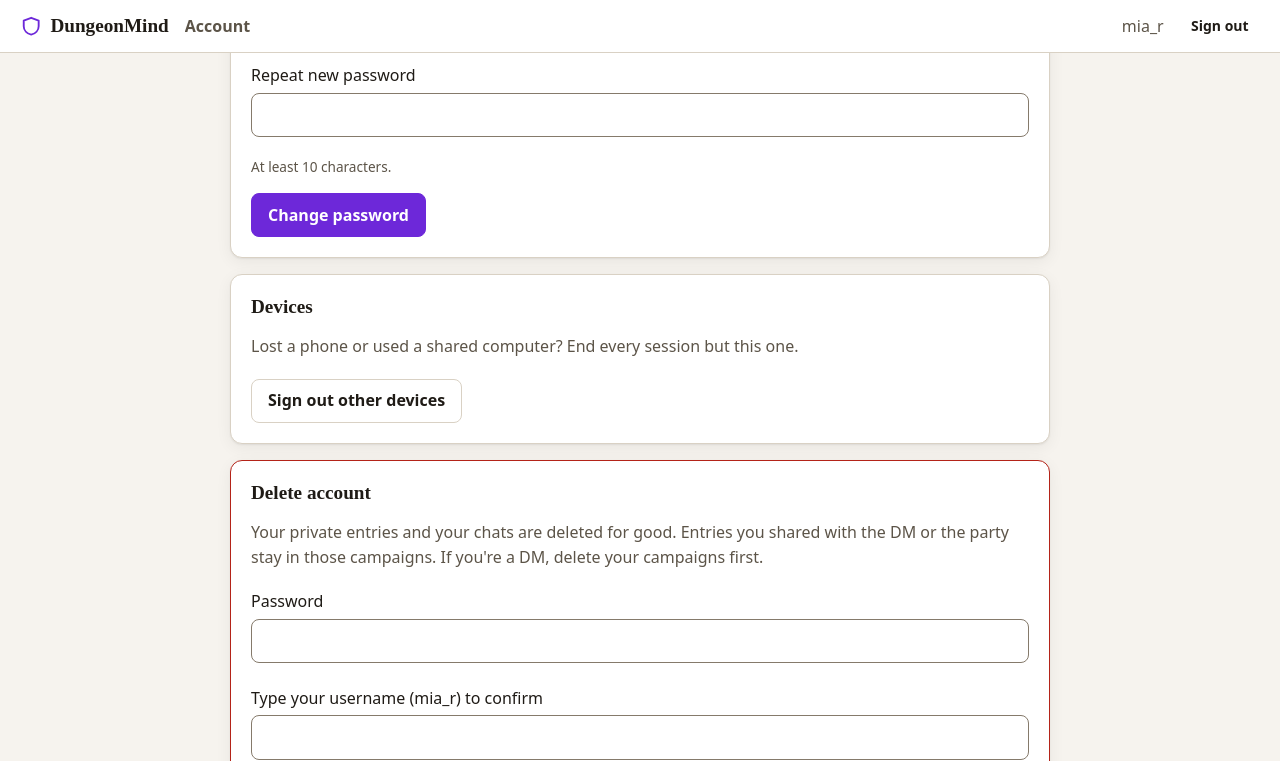
account page › AU3: signing out other devices says how many
(page scrolled)
Click the button "Sign out other devices": (357, 401) x1=251 y1=379 x2=462 y2=423
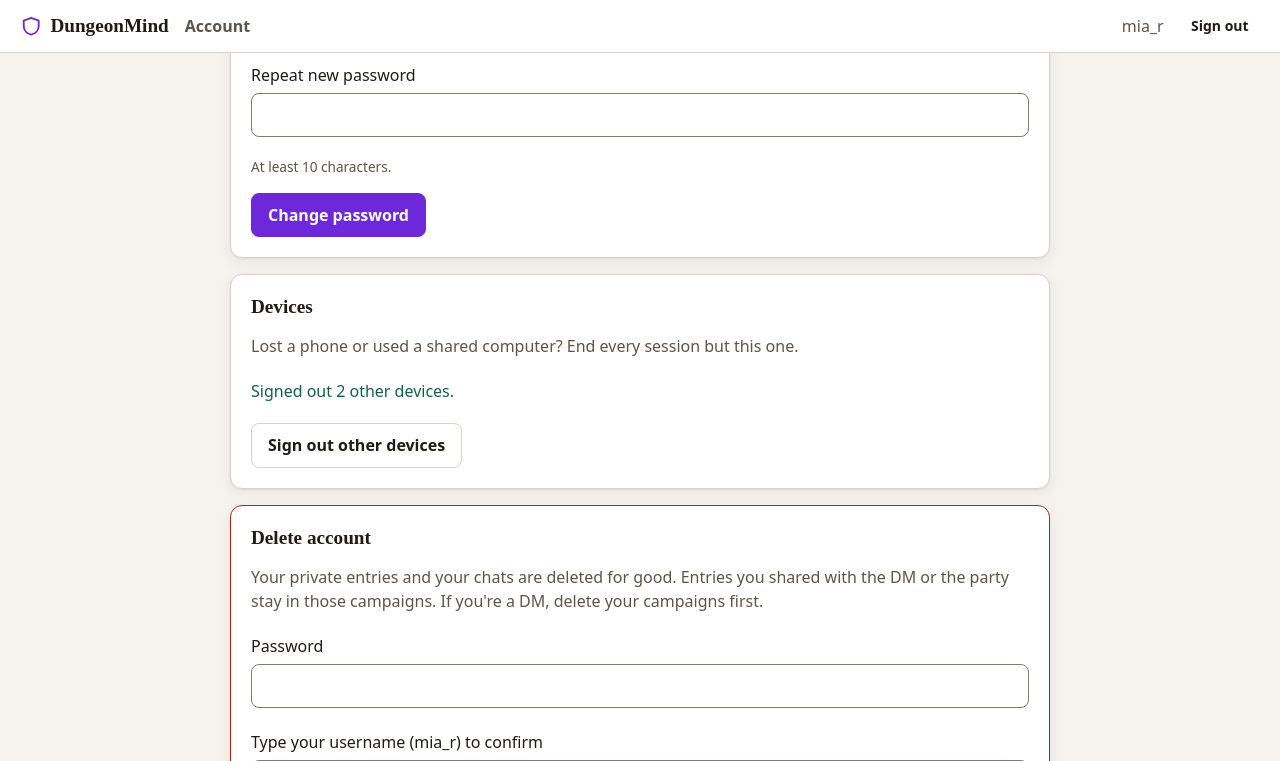
Check: the message shows "2", box x1=251 y1=380 x2=454 y2=402
